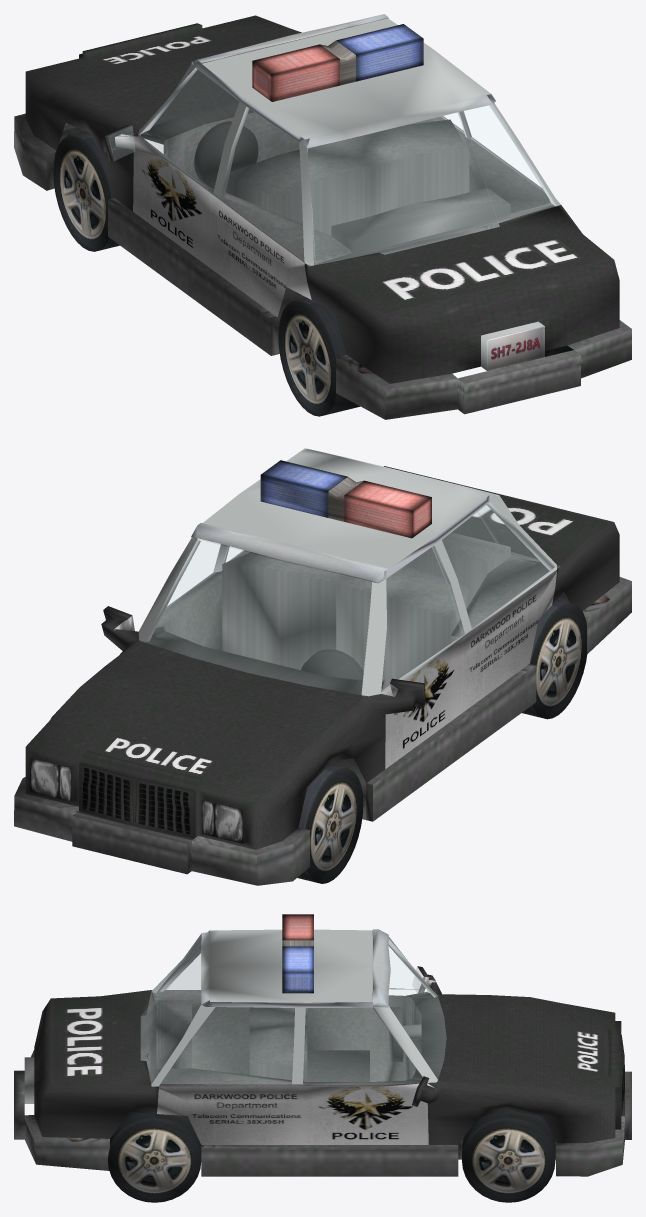
File: car_police.glb
The picture shows the model from 3 angles, top to bottom: view 1: azimuth 30°, elevation 25°; view 2: azimuth 150°, elevation 25°; view 3: azimuth 270°, elevation 25°; orthographic projection. The views are drawn at different scales.
Parts seen in each view (by area): view 1: body, lights, tire_bl, tire_fl, steering2; view 2: body, lights, tire_fl, tire_bl, steering2; view 3: body, tire_fr, tire_br, lights, steering2.
Part boxes in pixels (<box>): body: <box>14,14,631,419</box>; lights: <box>252,24,423,101</box>; tire_bl: <box>278,298,360,416</box>; tire_fl: <box>53,132,119,251</box>; steering2: <box>194,121,258,188</box>; body: <box>14,448,631,885</box>; lights: <box>260,460,431,538</box>; tire_fl: <box>297,764,363,883</box>; tire_bl: <box>522,600,587,719</box>; steering2: <box>301,649,363,680</box>; body: <box>14,929,631,1176</box>; tire_fr: <box>462,1110,555,1202</box>; tire_br: <box>107,1112,201,1202</box>; lights: <box>282,914,313,993</box>; steering2: <box>389,1007,421,1062</box>.
Size of the model in its own units: 3.34 by 2.66 by 7.1.
Materials: 12 (11 with a texture image).
